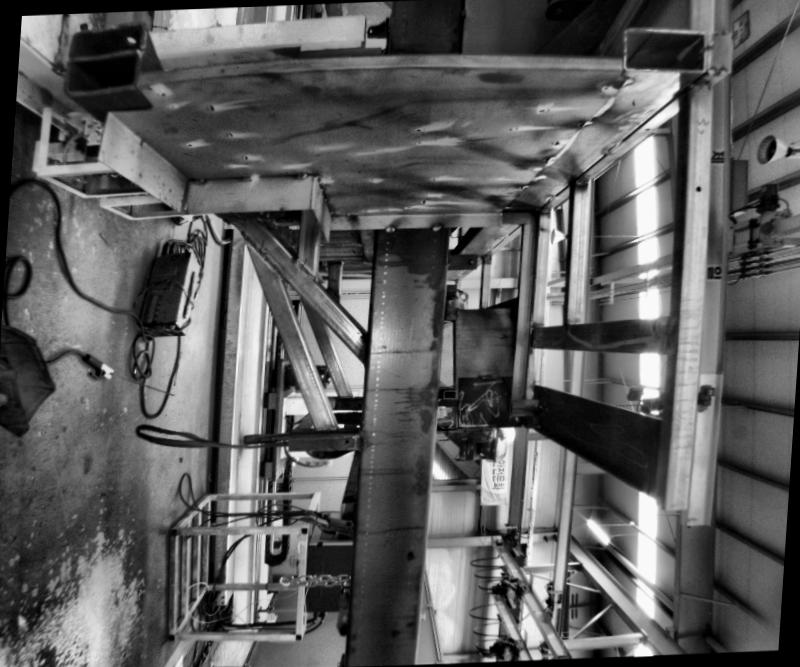hole: (695, 186, 702, 193), (407, 550, 413, 557), (344, 439, 350, 445), (630, 334, 636, 340)
welding: (234, 172, 258, 186), (190, 174, 208, 186), (427, 222, 445, 231), (383, 223, 395, 234), (290, 171, 308, 178)
